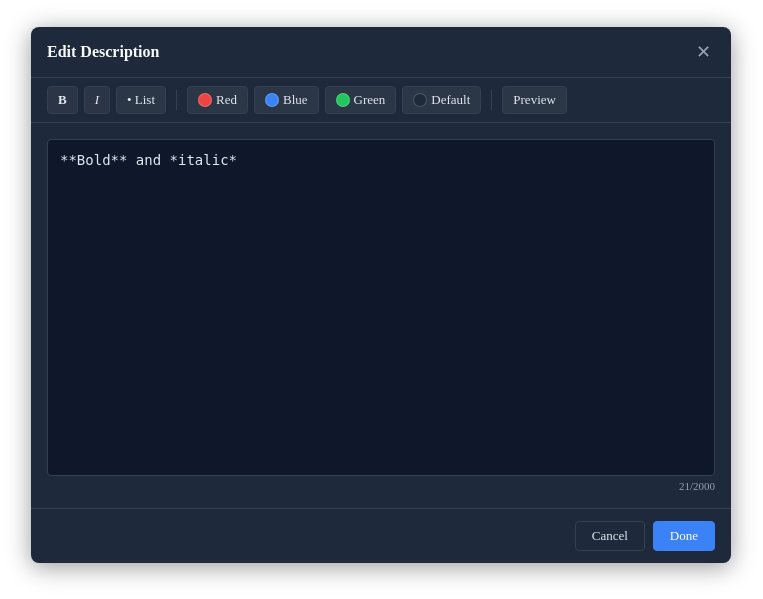
DescriptionModal › preview mode › switches to preview pane when Preview is clicked
This screenshot has width=763, height=599.
Click the button with test id "toolbar-preview-toggle" at (535, 100), box top-left (502, 86), bottom-right (567, 114)
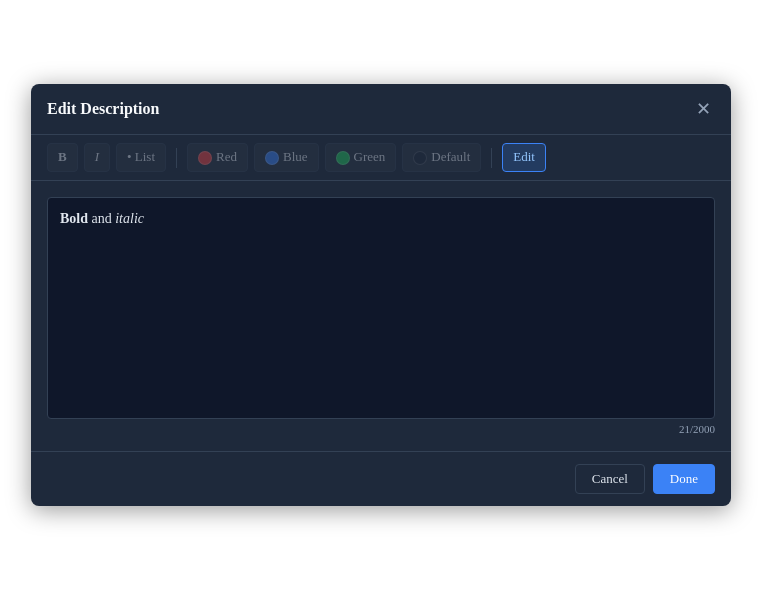
Result: the text box with test id "description-modal-textarea" is gone
Result: the element with test id "description-modal-preview" is shown at top-left (47, 197), bottom-right (715, 419)
